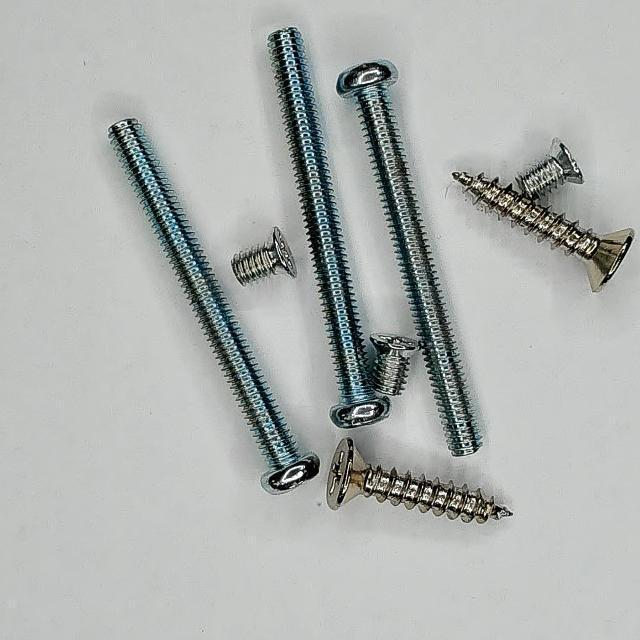Screw: (108, 118, 320, 495), (337, 60, 482, 457), (268, 26, 391, 428), (453, 172, 636, 292), (327, 439, 513, 524), (517, 137, 585, 200), (231, 227, 297, 286), (371, 334, 420, 396)
